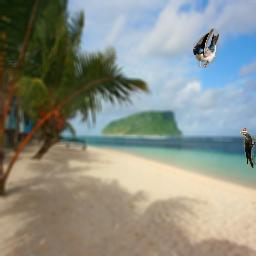Swallow: (193, 28, 219, 68)
Woodpecker: (239, 128, 256, 168)
